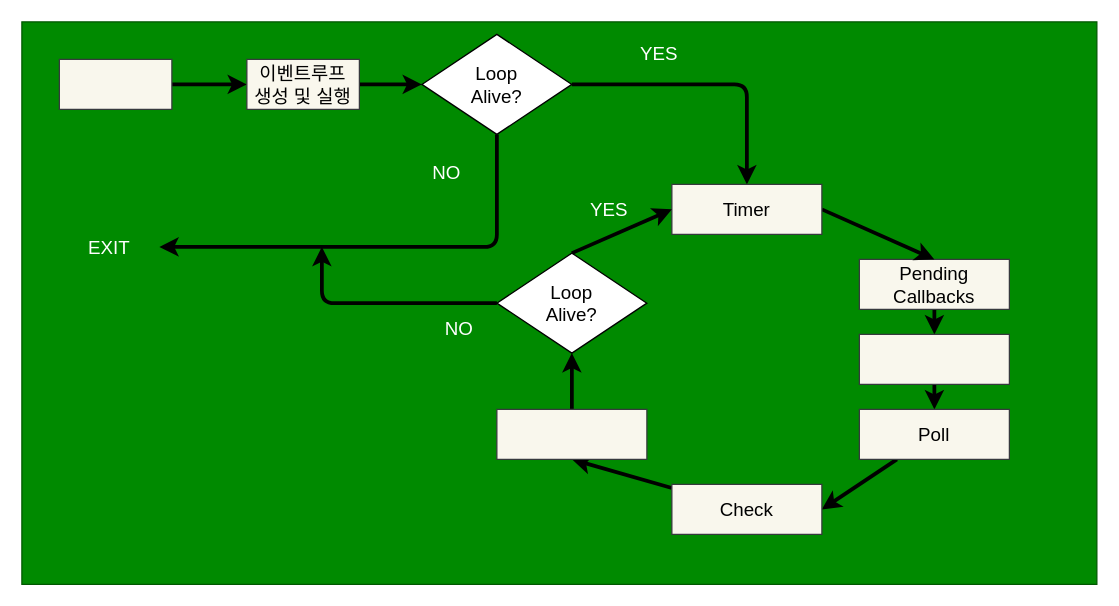
Image size: 1119x606. Some labels were removed from this diagram. Each missing label, with the centre of its shape:
"Close Callbacks" belongs at point (571, 433).
"Idle, Prepare" belongs at point (933, 358).
"main.js" belongs at point (115, 83).
